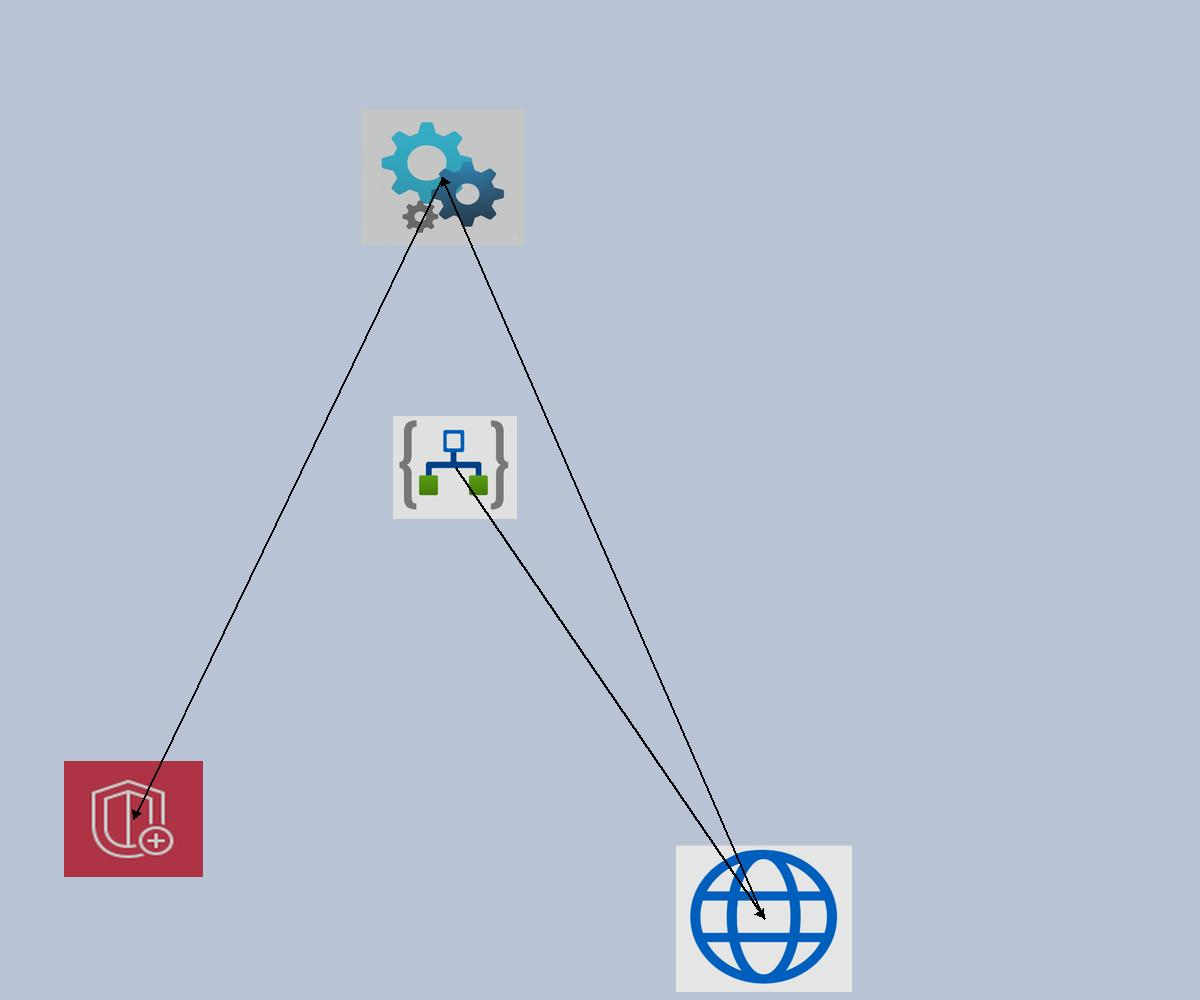AWS-Shield: (64, 761, 203, 877)
Azure_api: (361, 109, 524, 245)
Azure_http: (676, 845, 852, 992)
Azure_integration-204-Logic-Apps: (393, 416, 517, 519)
